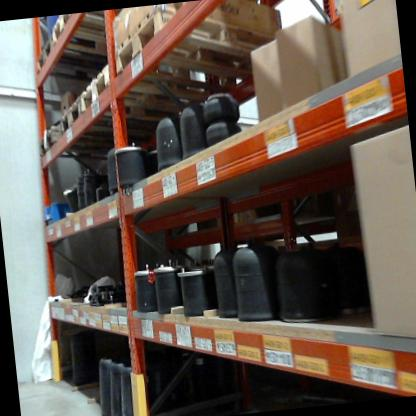pallet: (108, 0, 280, 108), (76, 50, 260, 126), (53, 83, 171, 141), (47, 6, 151, 66), (38, 117, 154, 168), (32, 32, 129, 86)
